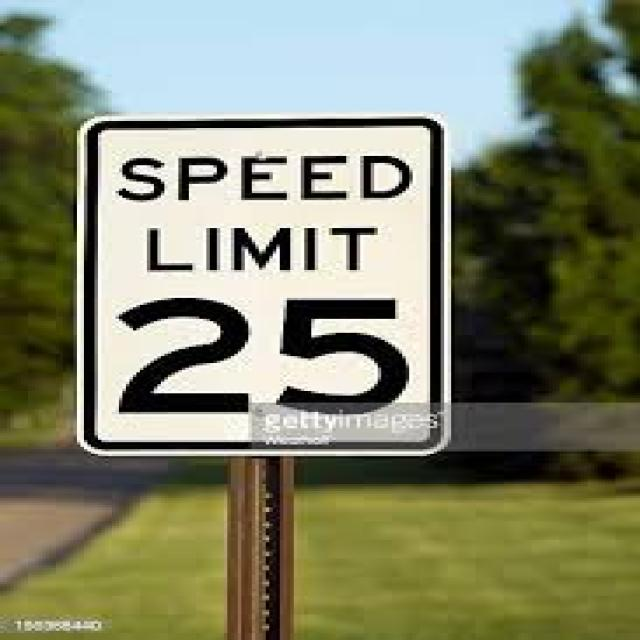speedLimit25: (76, 101, 460, 448)
